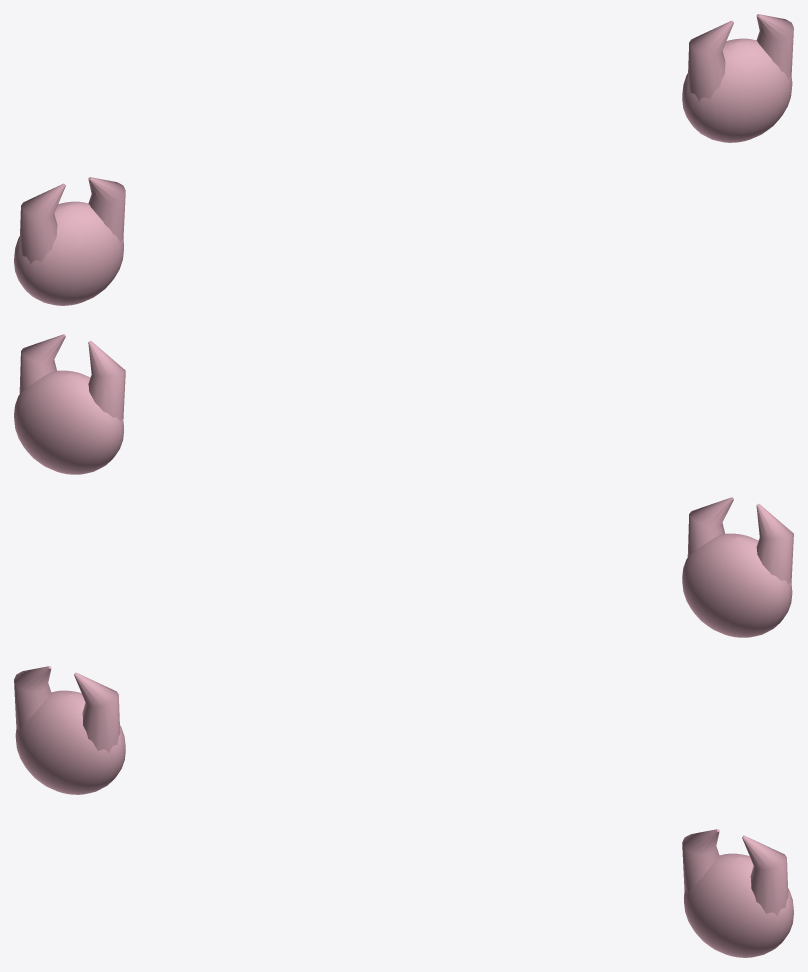
File: familiar_hermit_crab_grip_GripBffsTwoIdle.glb
The picture shows the model from 3 angles, top to bottom: view 1: azimuth 30°, elevation 25°; view 2: azimuth 150°, elevation 25°; view 3: azimuth 330°, elevation 25°; orthographic projection.
Bounding box in the file's own units: 21.7 × 3.43 × 2.
